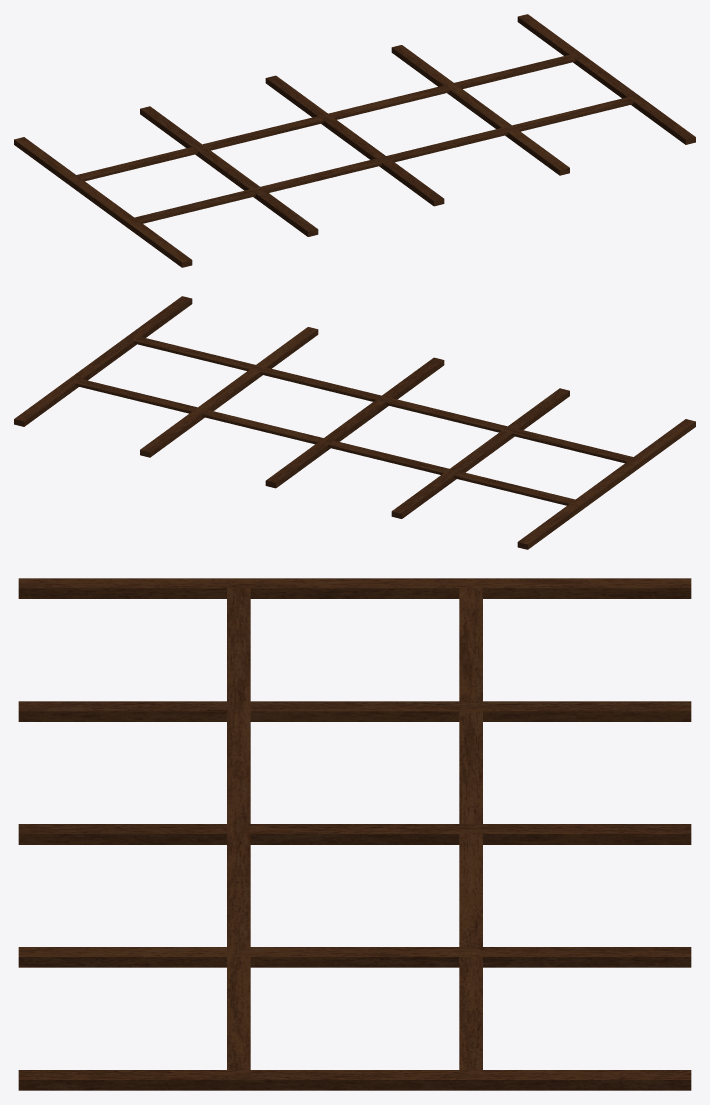
Rendered from MSH_C_Roof_Beams.glb.
3 views of the same model, one above another, from view 1: azimuth 30°, elevation 25°; view 2: azimuth 150°, elevation 25°; view 3: azimuth 270°, elevation 25° (orthographic). The views are drawn at different scales.
Visible parts, largest first — view 1: MSH_C_Roof_Beams; view 2: MSH_C_Roof_Beams; view 3: MSH_C_Roof_Beams.
Part boxes in pixels (left/top/right/bottom): MSH_C_Roof_Beams: left=14, top=14, right=695, bottom=267; MSH_C_Roof_Beams: left=14, top=296, right=695, bottom=549; MSH_C_Roof_Beams: left=18, top=578, right=691, bottom=1090.
Size of the model in its own units: 15 by 0.15 by 8.5.
1 material, 1 textured.
